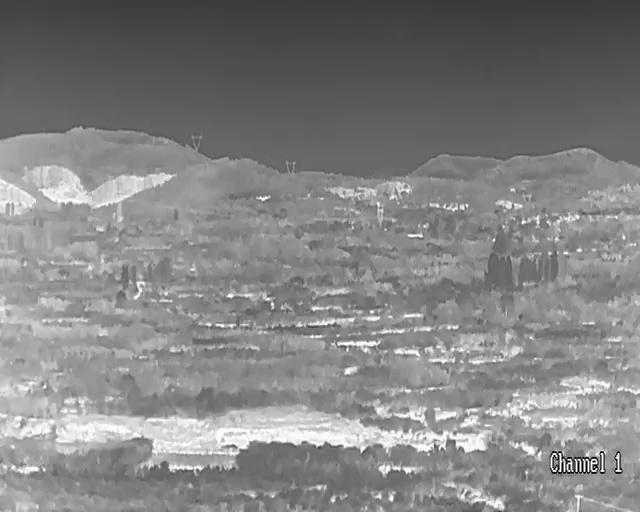uav: (255, 195, 270, 201)
